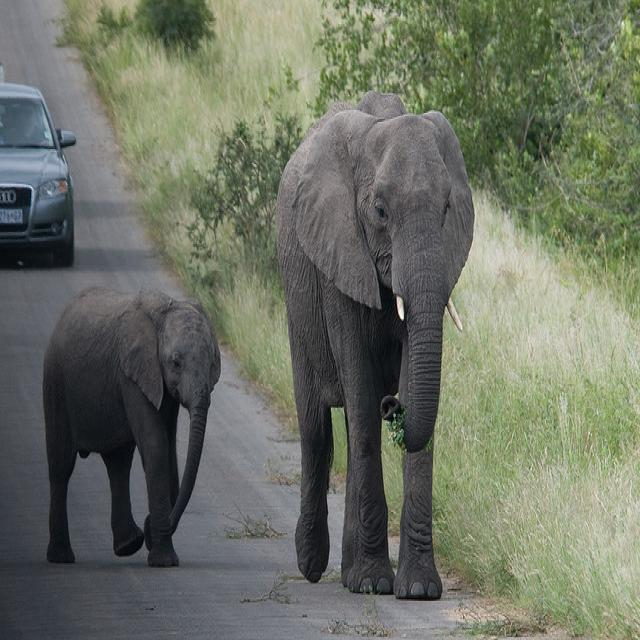Vehicle: (0, 81, 77, 265)
